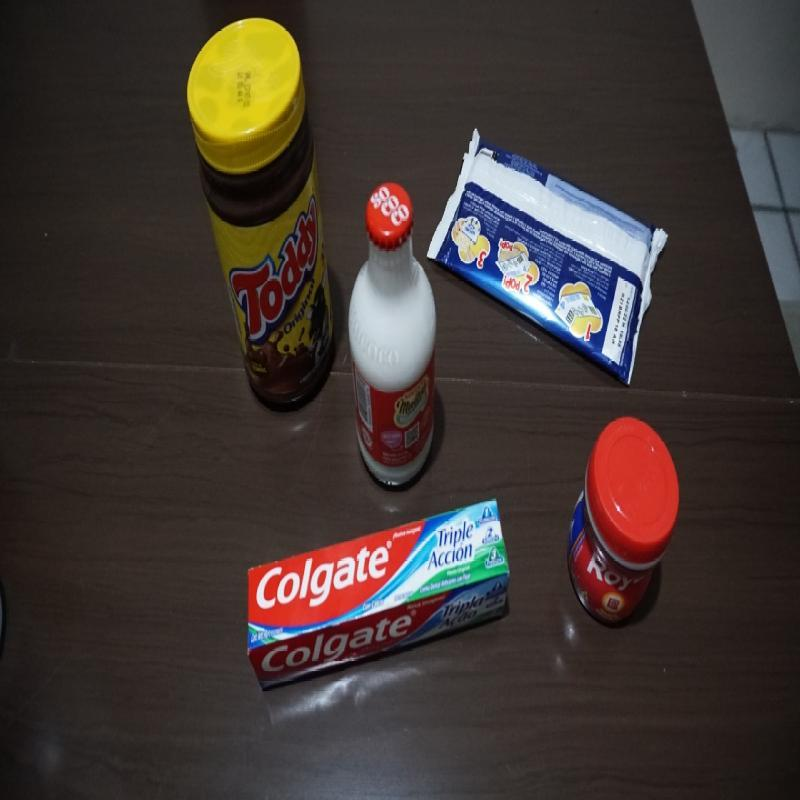Chocolate Powder: (184, 16, 337, 417)
Coconut Milk: (346, 180, 440, 494)
Popcorn: (425, 124, 670, 390)
Toothpaste: (246, 495, 512, 695)
Yeast: (565, 413, 681, 631)
